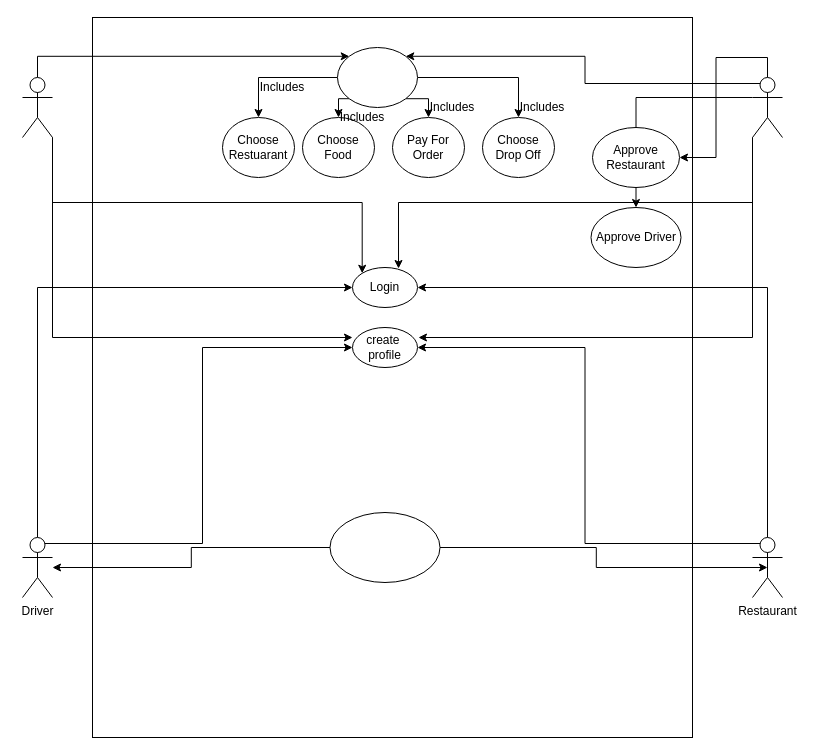
Image size: 814x755. Some labels were removed from this diagram. The centre of each missing label's shape, as x and y in pixels:
Accept Order: point 384,547
Faculty: point 767,107
Place Order: point 377,77
Student: point 37,107
